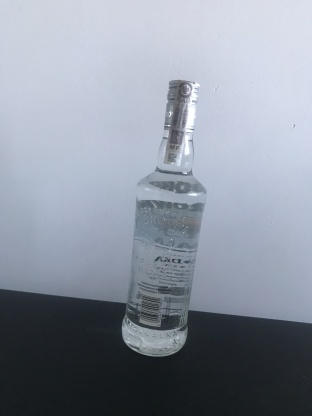nakretka: (161, 74, 202, 136)
